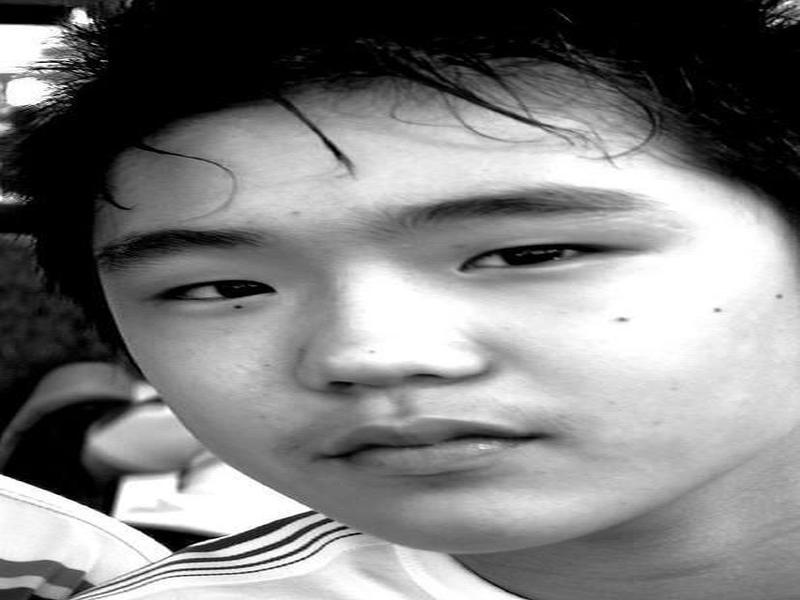person: (26, 5, 798, 600)
